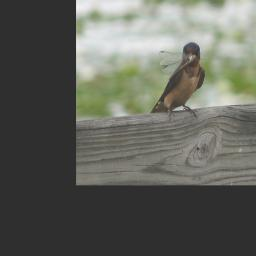Swallow: (150, 42, 205, 124)
